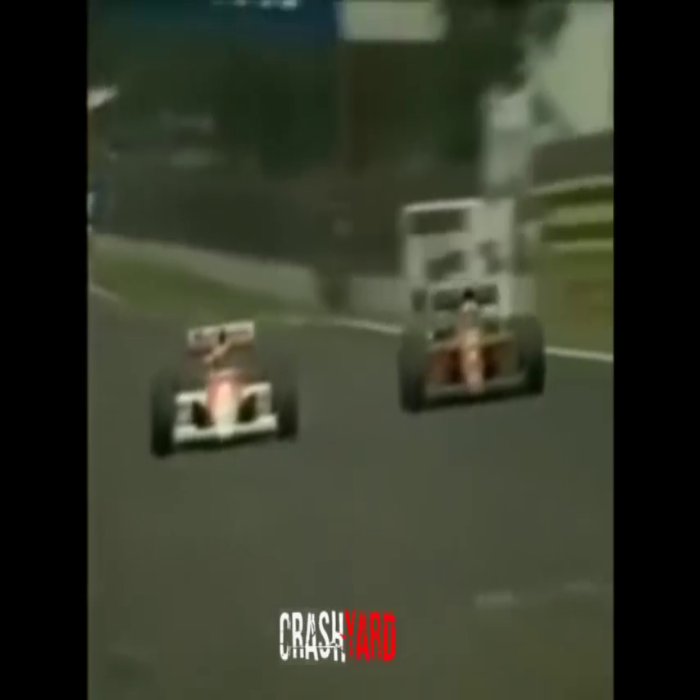f1_car: (144, 314, 315, 461), (389, 271, 554, 406)
